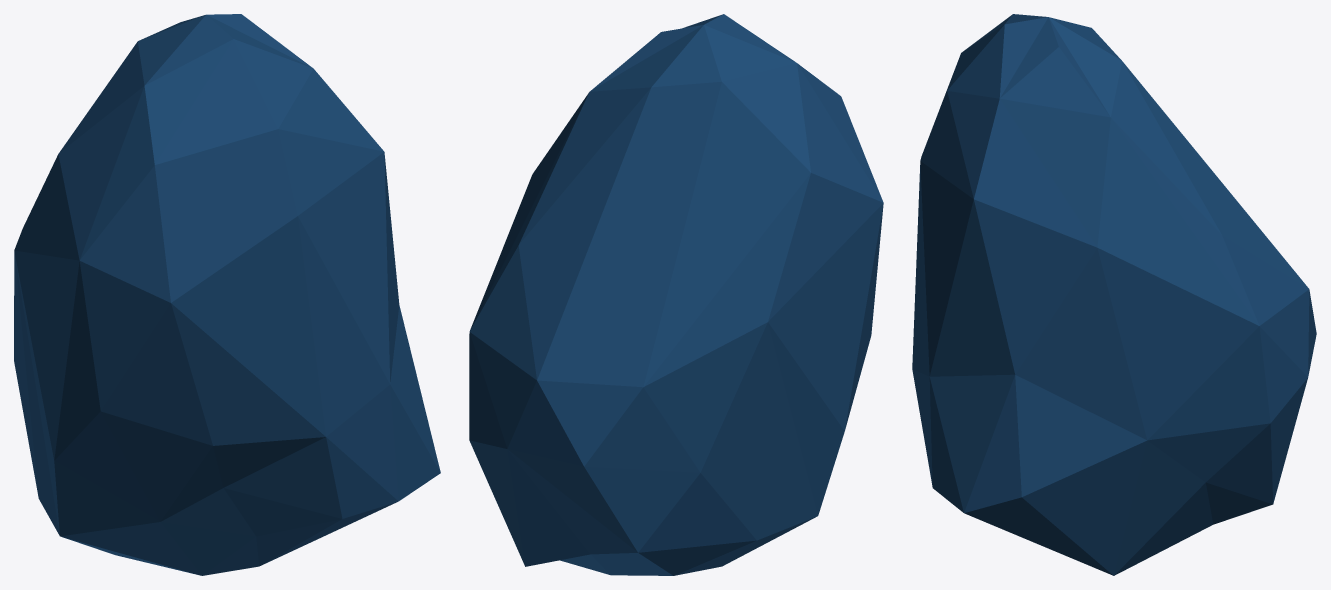
Rendered from Rock_3_MY (1).fbx.
The picture shows the model from 3 angles, left to right: view 1: azimuth 30°, elevation 25°; view 2: azimuth 150°, elevation 25°; view 3: azimuth 270°, elevation 25°; orthographic projection. The views are drawn at different scales.
Parts seen in each view (by area): view 1: Landscape.003; view 2: Landscape.003; view 3: Landscape.003.
Boxes of the visible parts, x1=… form: Landscape.003: x1=14, y1=14, x2=440, y2=575; Landscape.003: x1=469, y1=14, x2=883, y2=575; Landscape.003: x1=912, y1=14, x2=1316, y2=575.
Size of the model in its own units: 276 by 411 by 299.
